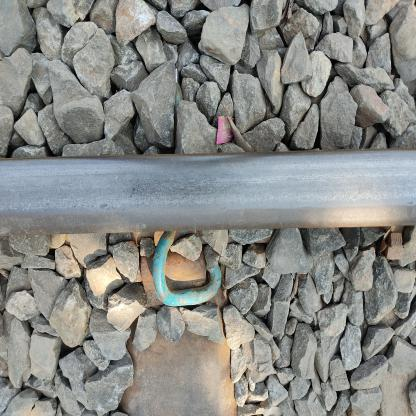Non Defective: (165, 64, 298, 263)
